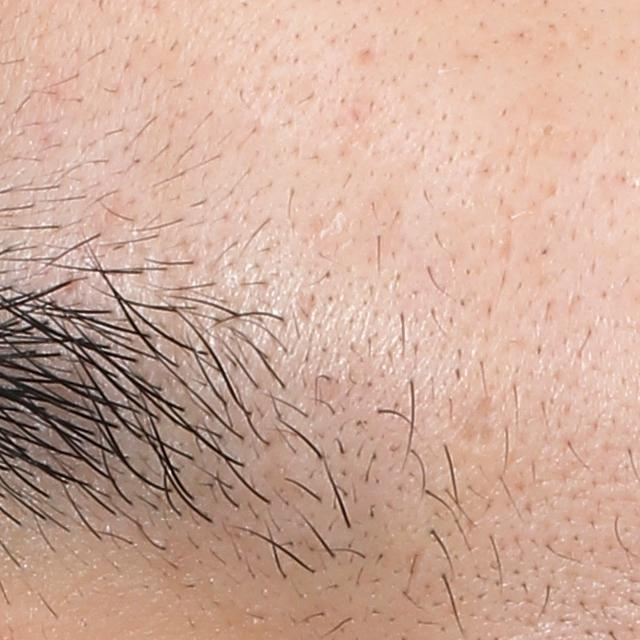atrophic_scar: (456, 393, 499, 449), (498, 206, 518, 269)
comedo: (537, 118, 558, 141)
